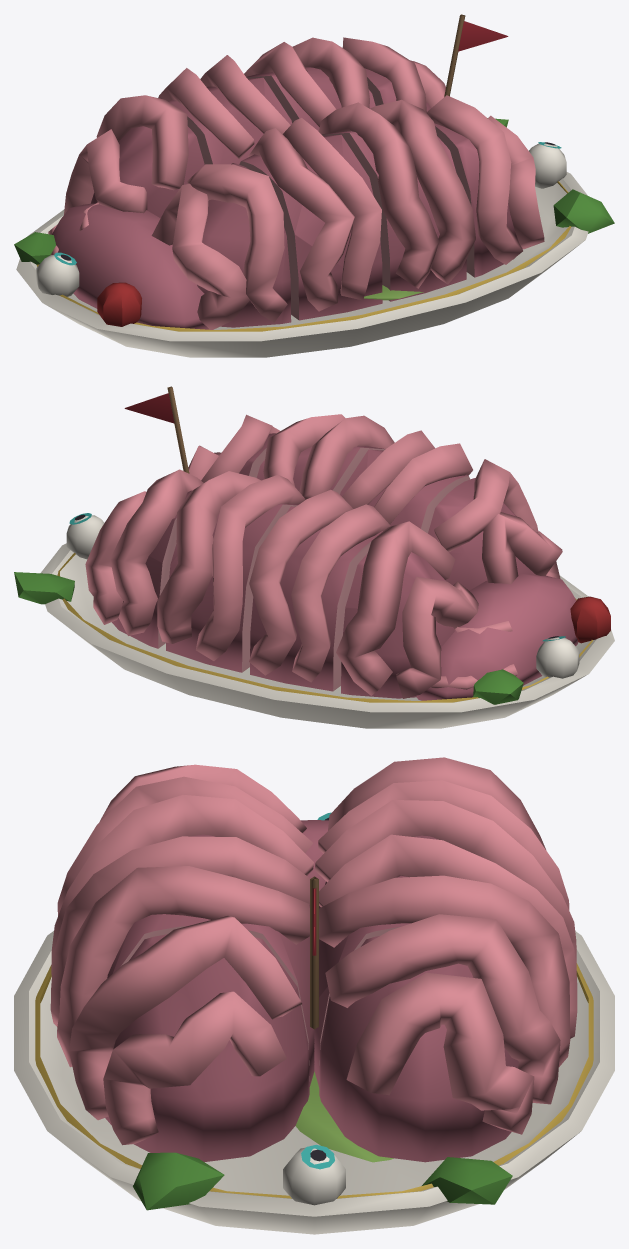
Rendered from item_meal.glb.
3 renders of one model, top to bottom at view 1: azimuth 30°, elevation 25°; view 2: azimuth 150°, elevation 25°; view 3: azimuth 270°, elevation 25°, orthographic. The views are drawn at different scales.
Visible parts, largest first — view 1: serving_0, item_meal, serving_1, serving_2, serving_3; view 2: serving_0, serving_1, item_meal, serving_2, serving_3; view 3: serving_3, serving_2, item_meal, serving_1, serving_0.
Part boxes in pixels (x1,y1,x2,y2): serving_0: [48, 95, 291, 329]; item_meal: [14, 118, 614, 357]; serving_1: [158, 55, 382, 320]; serving_2: [244, 37, 475, 301]; serving_3: [342, 14, 544, 277]; serving_0: [336, 459, 578, 700]; serving_1: [249, 430, 472, 691]; item_meal: [14, 513, 614, 728]; serving_2: [157, 414, 394, 672]; serving_3: [85, 386, 279, 648]; serving_3: [69, 876, 560, 1162]; serving_2: [50, 834, 577, 1087]; item_meal: [14, 812, 614, 1234]; serving_1: [51, 776, 576, 975]; serving_0: [99, 757, 545, 890].
Size of the model in its own units: 0.47 by 0.1833 by 0.3254.
